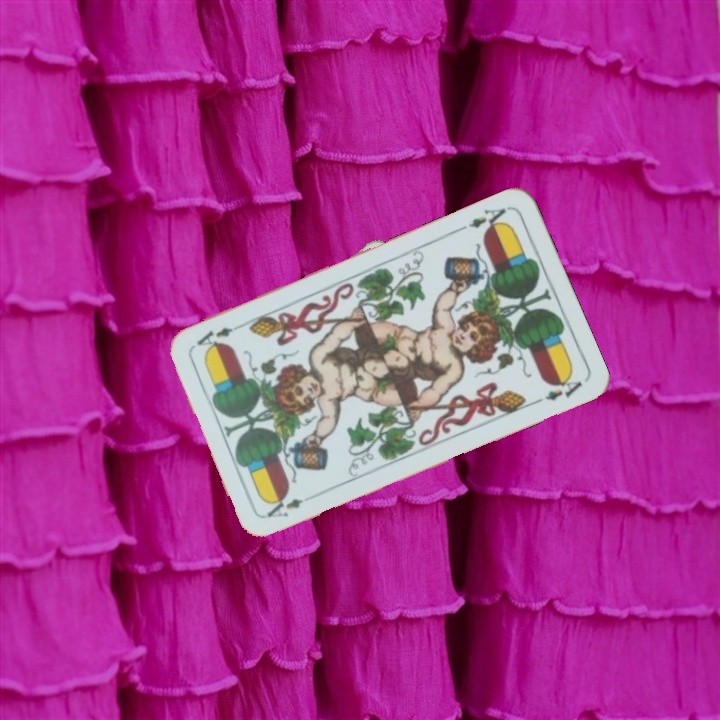EA: (464, 203, 511, 235), (262, 492, 306, 520)
